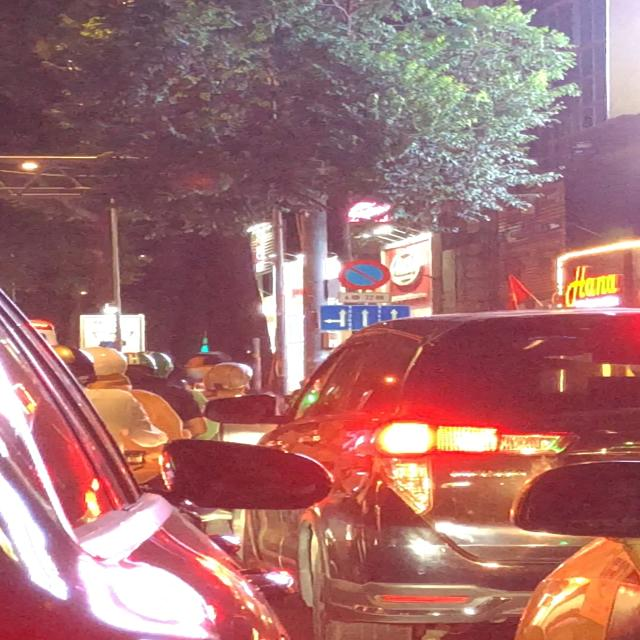Bien bao cam do xe: (333, 259, 394, 291)
